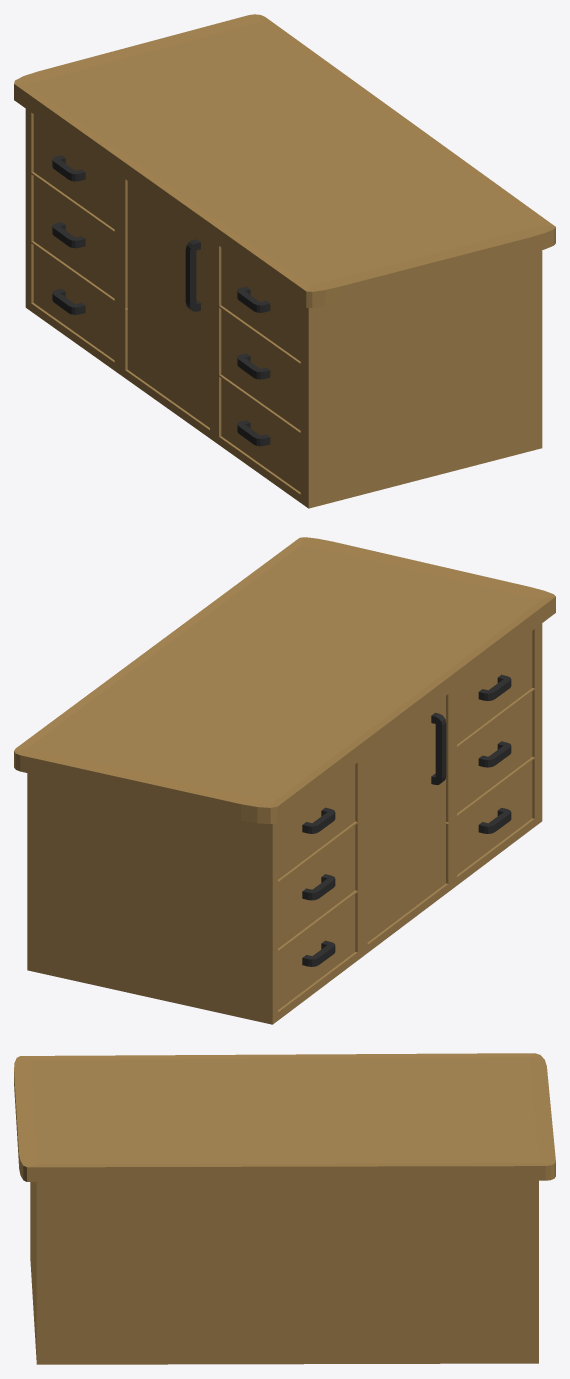
File: cabinet1_norm_perekoshen.fbx
The picture shows the model from 3 angles, top to bottom: view 1: azimuth 30°, elevation 25°; view 2: azimuth 150°, elevation 25°; view 3: azimuth 270°, elevation 25°; orthographic projection. The views are drawn at different scales.
Visible parts, largest first — view 1: Plane.004; view 2: Plane.004; view 3: Plane.004.
Part boxes in pixels (<box>): Plane.004: <box>14,14,555,508</box>; Plane.004: <box>14,537,555,1024</box>; Plane.004: <box>14,1053,555,1364</box>.
Bounding box in the file's own units: 101 × 83 × 203.
